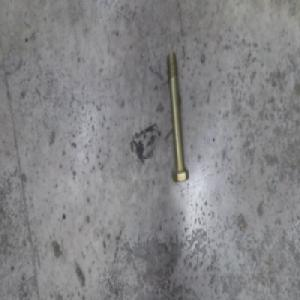Bolt: (164, 44, 190, 174)
